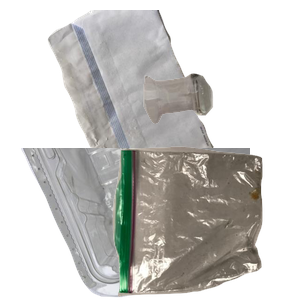glass: (141, 71, 300, 187)
paper: (45, 10, 251, 190)
plastic: (19, 148, 259, 300)
trash: (110, 144, 300, 300)
